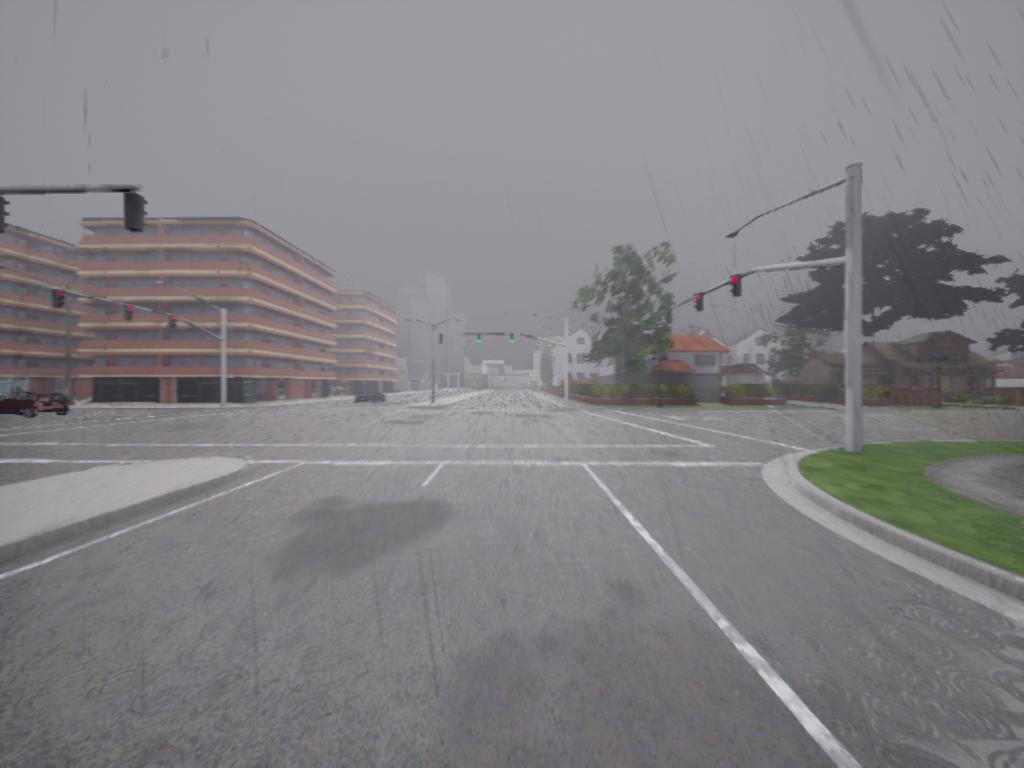traffic_light: (126, 193, 151, 232), (1, 197, 11, 234), (52, 290, 70, 310), (732, 276, 747, 299), (728, 276, 742, 298), (696, 294, 706, 311), (170, 315, 178, 336), (128, 309, 137, 323), (477, 335, 487, 346), (438, 334, 444, 350), (508, 334, 516, 345)
